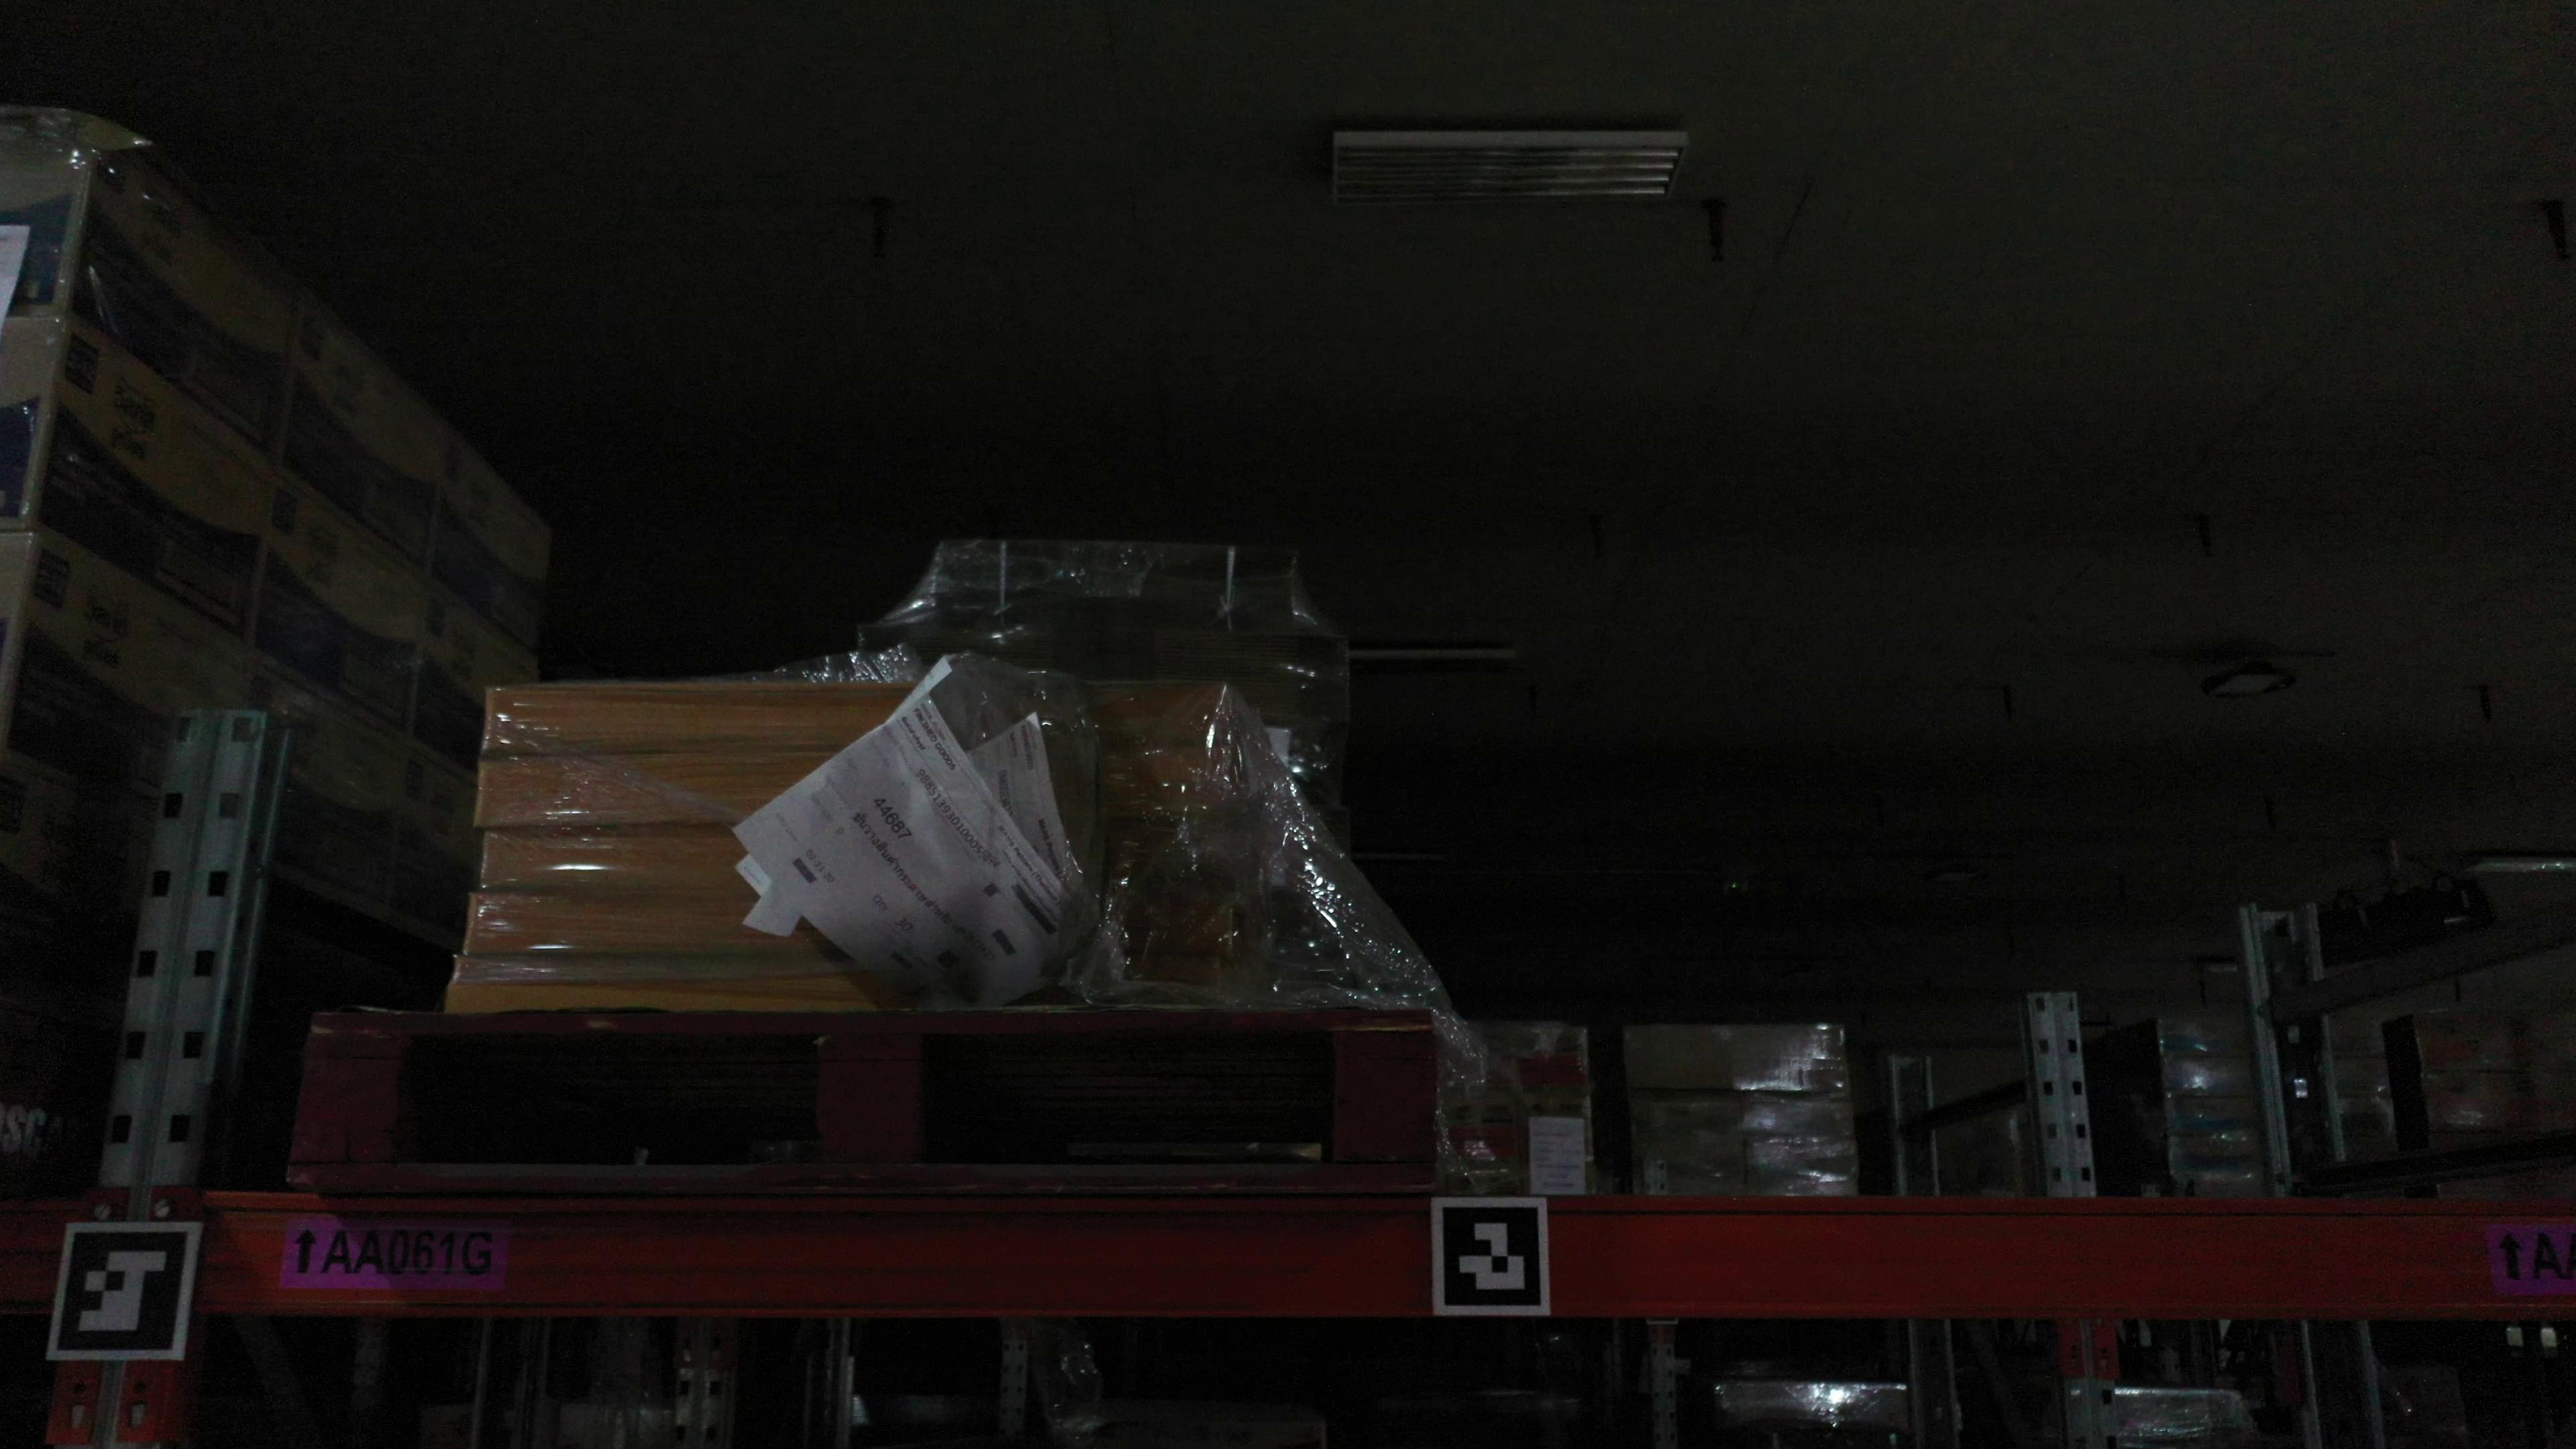-: (474, 743, 1235, 828), (476, 819, 1228, 897), (481, 679, 1235, 755), (465, 890, 1235, 961), (442, 957, 1221, 1014)
